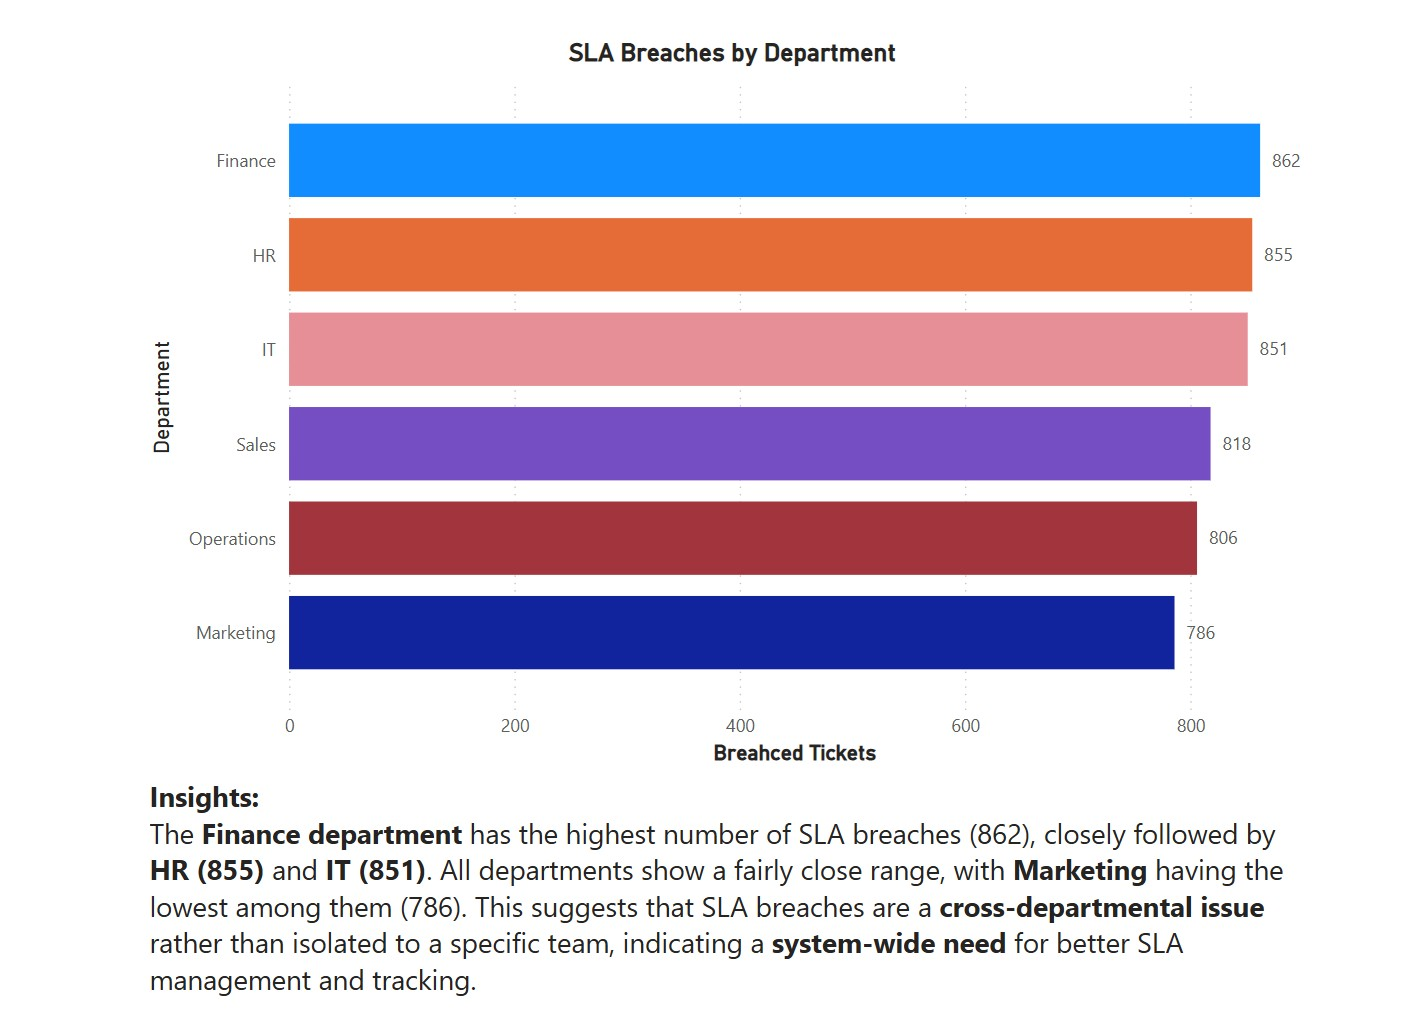

The dashboard page shown, as its layout file describes it:
{"tool":"powerbi","page":{"name":"SLA Breaches by Department","canvas":[1280,720],"ordinal":4},"visuals":[{"type":"clusteredBarChart","title":"SLA Breaches by Department","fields":{"Category":["sla_breaches csv.Department"],"Y":["Sum(sla_breaches csv.Breached_Tickets)"]},"box":[241.1,35.5,797.4,495.5],"z":0},{"type":"textbox","box":[241.1,529.9,797.4,190.5],"z":1}]}

Visuals, with their boxes on the page's 1280x720 design canvas (x1, y1, x2, y2). These are canvas units, not pixel positions in the 1401x1024 screenshot, which may show the page scaled, cropped or inside an application window:
"SLA Breaches by Department" clusteredBarChart: BBox(241, 36, 1038, 531)
textbox: BBox(241, 530, 1038, 720)
